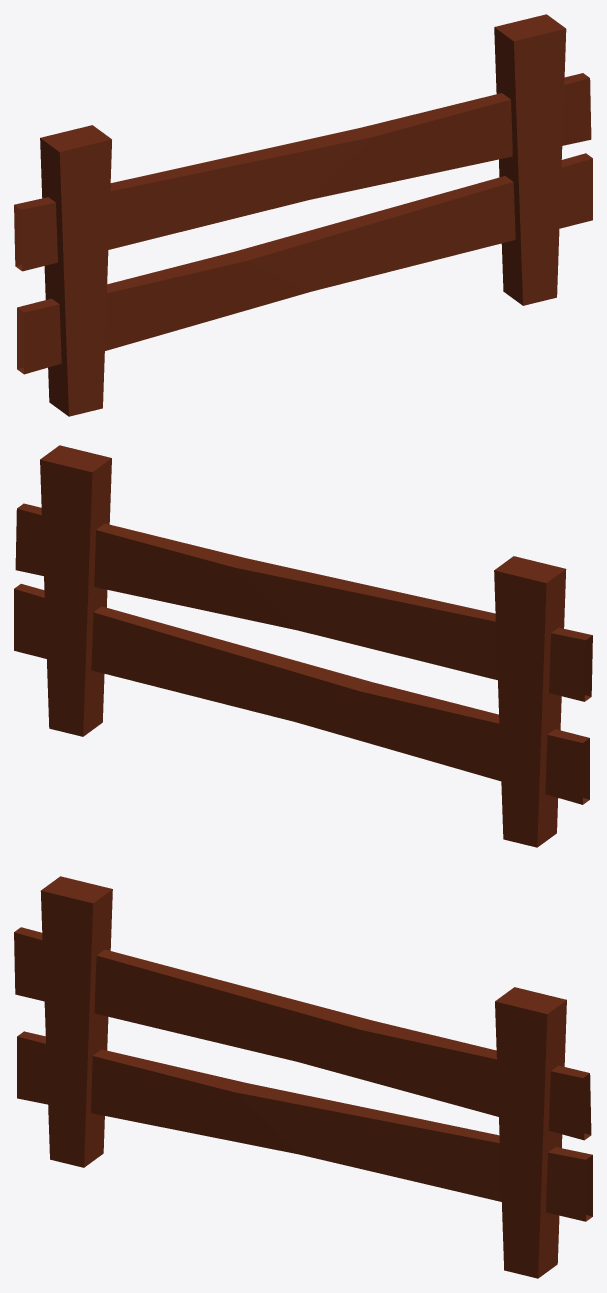
The model's file is Fence_Wood_Short.FBX.
3 views of the same model, one above another, from view 1: azimuth 30°, elevation 25°; view 2: azimuth 150°, elevation 25°; view 3: azimuth 330°, elevation 25° (orthographic).
Visible parts, largest first — view 1: Box009; view 2: Box009; view 3: Box009.
Part boxes in pixels (x1=…): Box009: x1=14, y1=14, x2=592, y2=416; Box009: x1=14, y1=445, x2=592, y2=847; Box009: x1=14, y1=876, x2=592, y2=1278.
Bounding box in the file's own units: 337 × 150 × 20.
